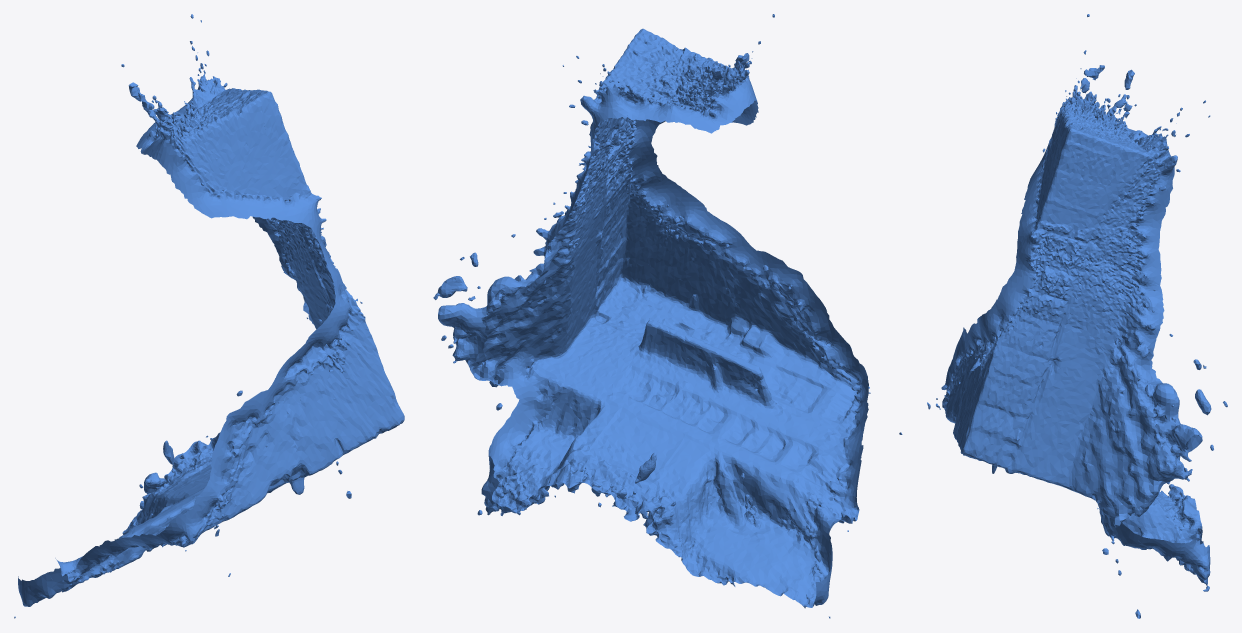
The model's file is klatka.fbx.
3 renders of one model, left to right at view 1: azimuth 30°, elevation 25°; view 2: azimuth 150°, elevation 25°; view 3: azimuth 270°, elevation 25°, orthographic. The views are drawn at different scales.
Visible parts, largest first — view 1: Model; view 2: Model; view 3: Model.
Part boxes in pixels (bbox=[...]): Model: bbox=[14, 14, 404, 618]; Model: bbox=[433, 14, 870, 618]; Model: bbox=[899, 14, 1227, 618].
Bounding box in the file's own units: 80.58 × 68.66 × 121.
